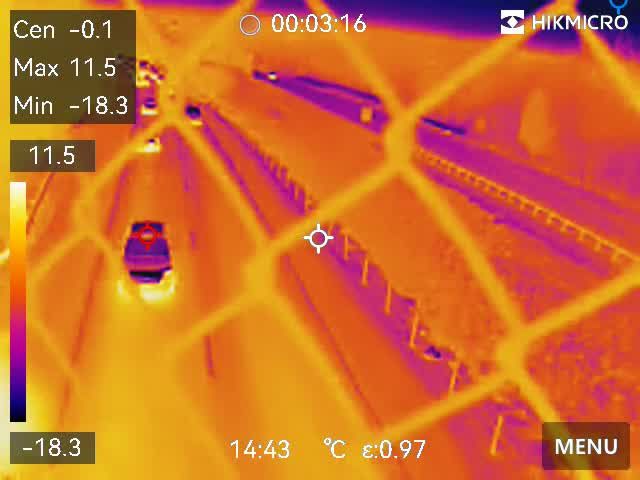vehicle: (121, 212, 178, 290), (134, 125, 161, 156), (182, 104, 205, 132), (138, 96, 161, 121), (153, 74, 167, 86), (267, 70, 276, 84)
